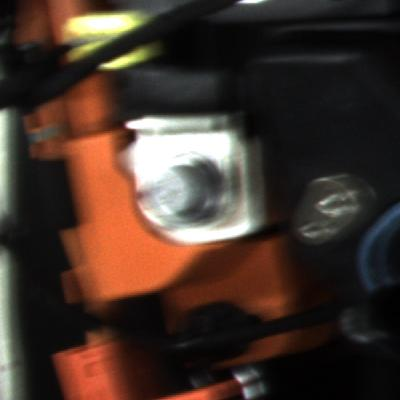nut_b: (139, 151, 226, 233)
